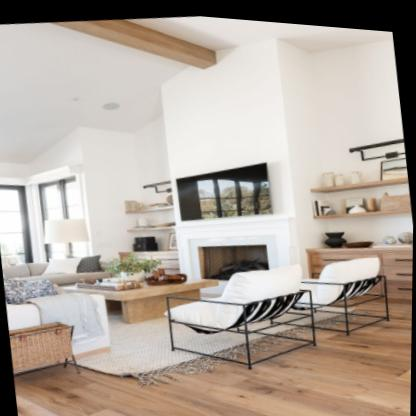Wooden floor: (14, 244, 413, 416)
